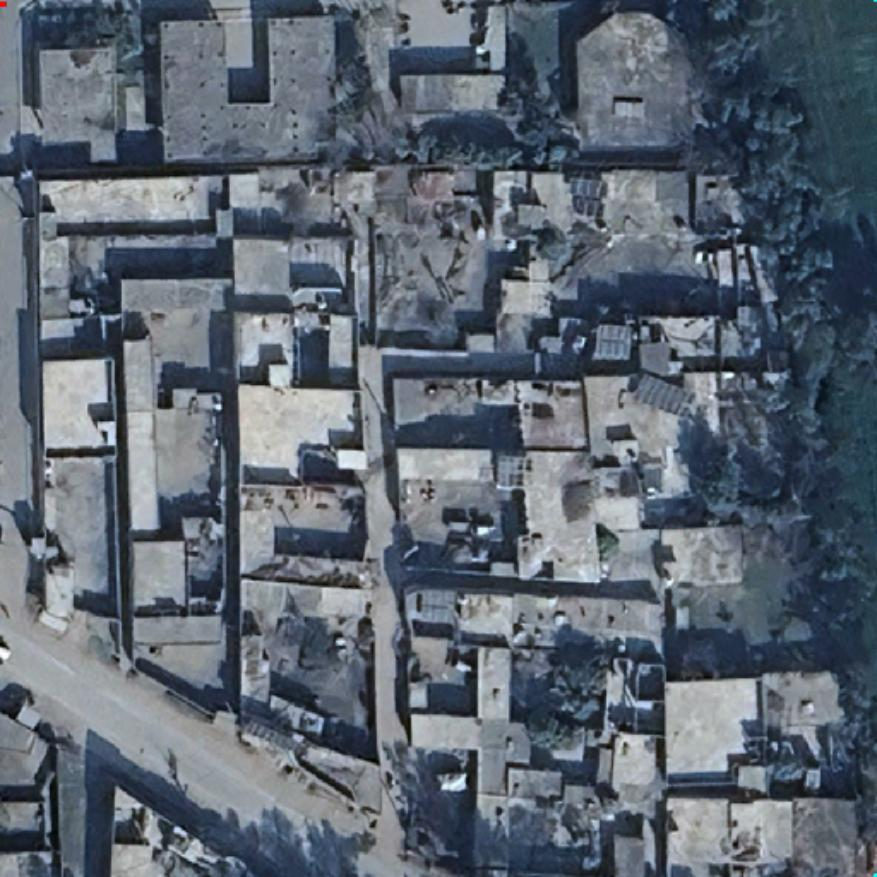Solarpanel: (626, 369, 699, 420), (237, 718, 305, 760), (492, 456, 531, 494), (592, 323, 632, 359), (570, 175, 608, 199), (572, 195, 604, 219)
